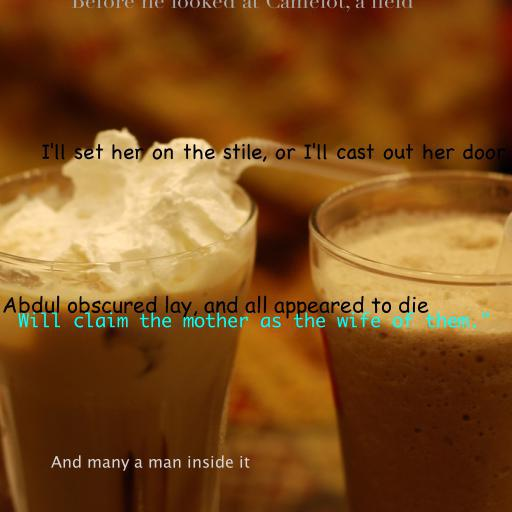Chalkboard: (41, 142, 505, 162)
Comic Sans MS: (1, 295, 429, 319)
Didot: (70, 0, 414, 12)
Lucida Grande: (50, 455, 250, 471)
Monaco: (17, 312, 491, 328)
